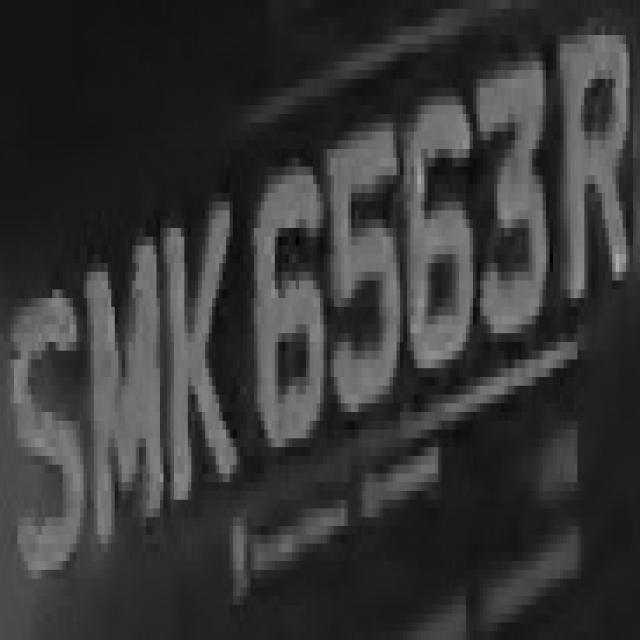3: (459, 70, 546, 395)
5: (320, 105, 410, 447)
6: (243, 149, 320, 456), (397, 105, 473, 386)
K: (150, 175, 233, 526)
M: (80, 219, 174, 561)
R: (556, 17, 630, 316)
S: (10, 255, 87, 622)
